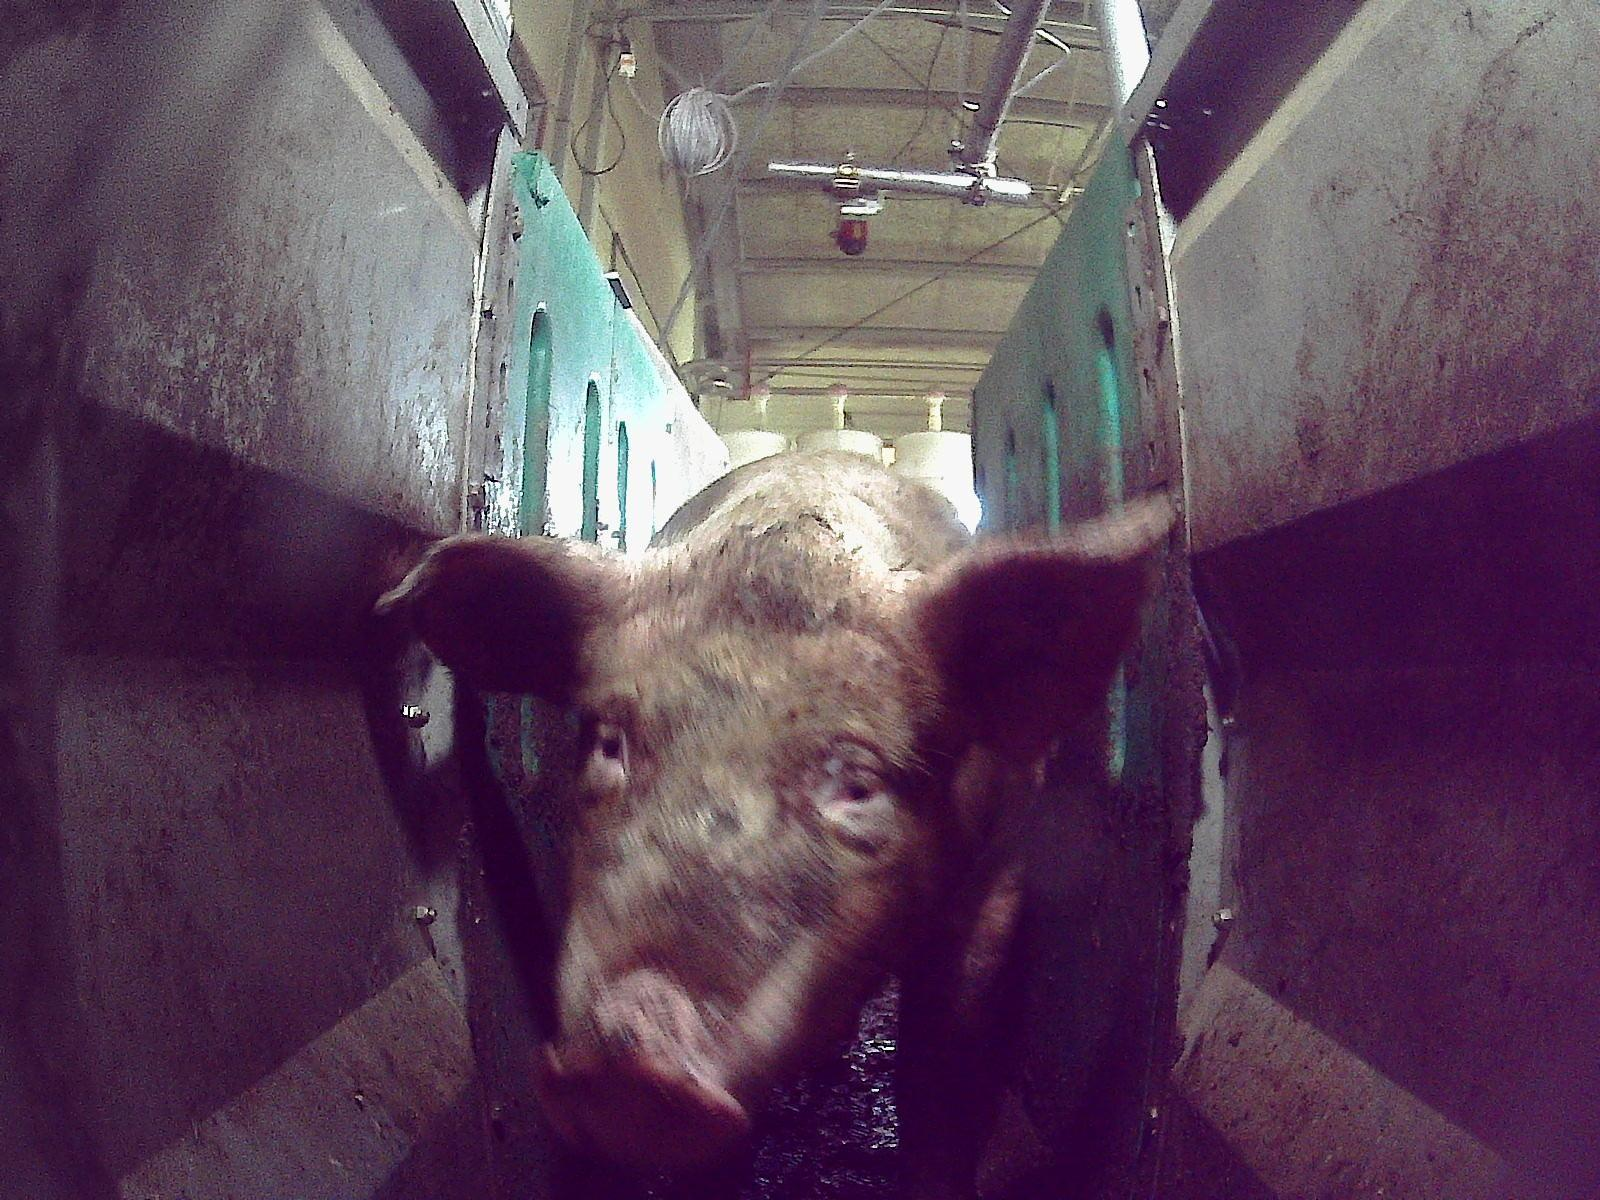Face: (531, 601, 934, 1165)
